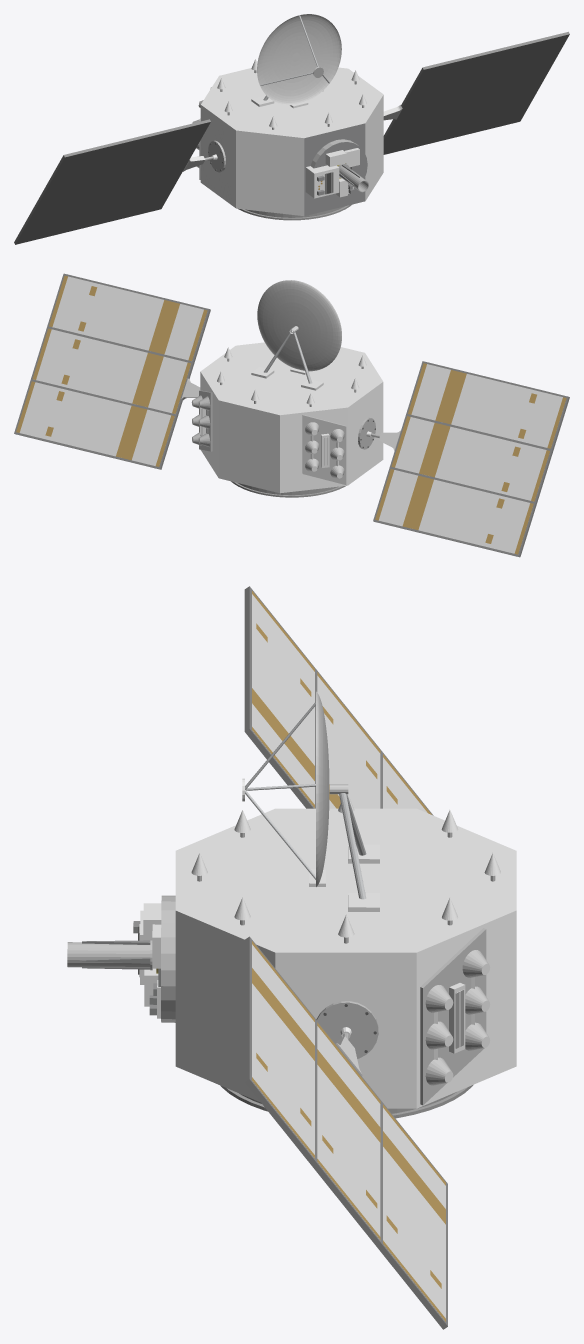
The model's file is deep-space-climate-observatory-dscovr-triana.glb.
3 renders of one model, top to bottom at view 1: azimuth 30°, elevation 25°; view 2: azimuth 150°, elevation 25°; view 3: azimuth 270°, elevation 25°, orthographic. The views are drawn at different scales.
Visible parts, largest first — view 1: Layer_0; view 2: Layer_0; view 3: Layer_0.
Boxes of the visible parts, <box> form: Layer_0: <box>14,14,569,244</box>; Layer_0: <box>14,273,569,557</box>; Layer_0: <box>67,586,516,1329</box>.
Bounding box in the file's own units: 266 × 96.42 × 103.
